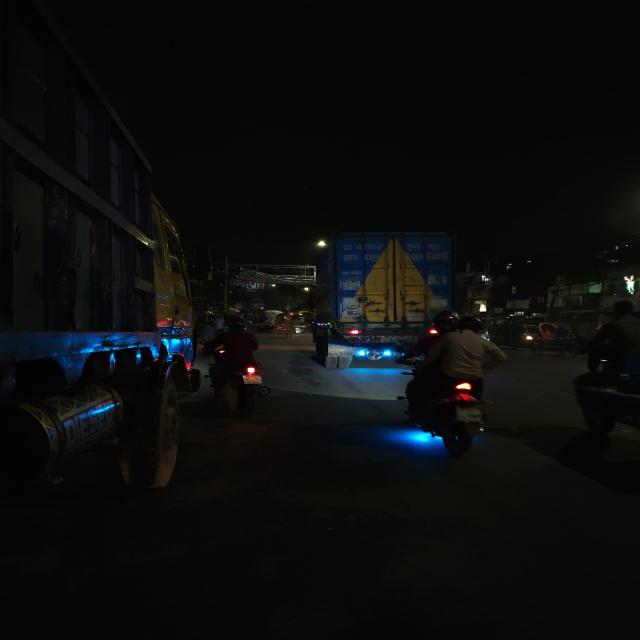motorcycle: (394, 304, 502, 472), (208, 311, 272, 421)
rickshaw: (529, 317, 587, 362), (271, 308, 293, 339)
truck: (0, 67, 207, 542), (307, 222, 461, 372)
